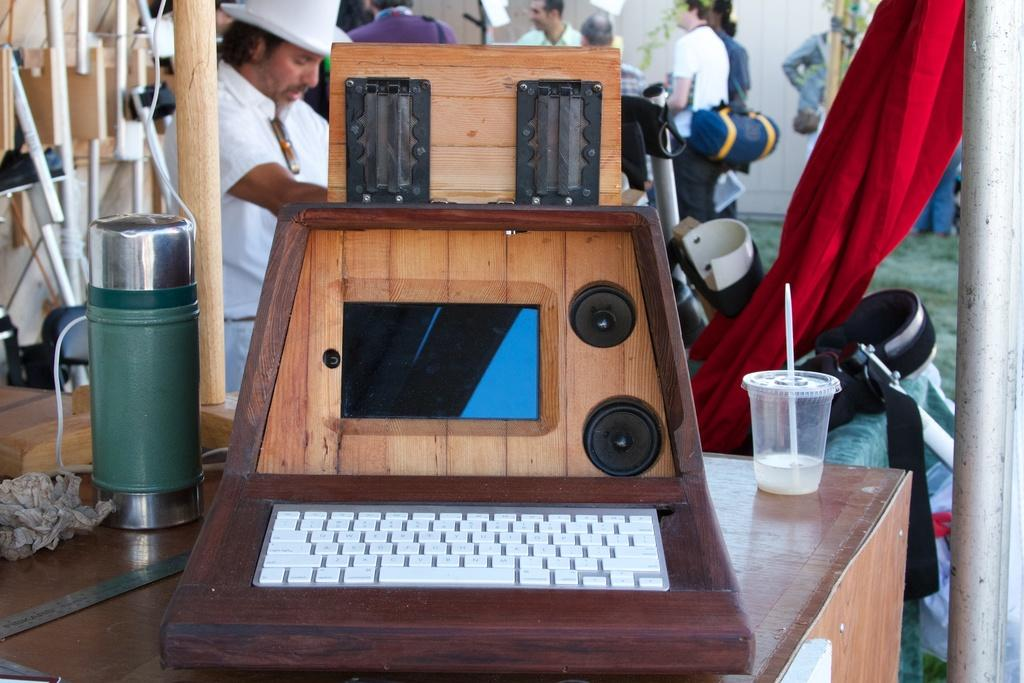Computer-keyboard: (254, 502, 669, 589)
